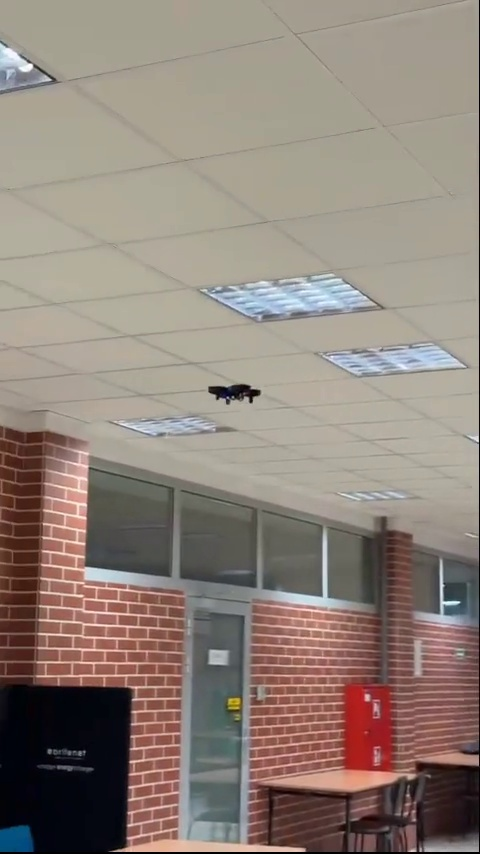drone: (209, 379, 261, 408)
